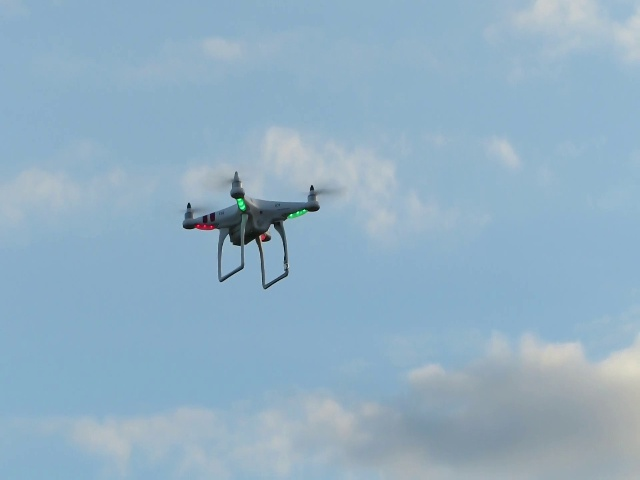drone: (172, 166, 335, 291)
